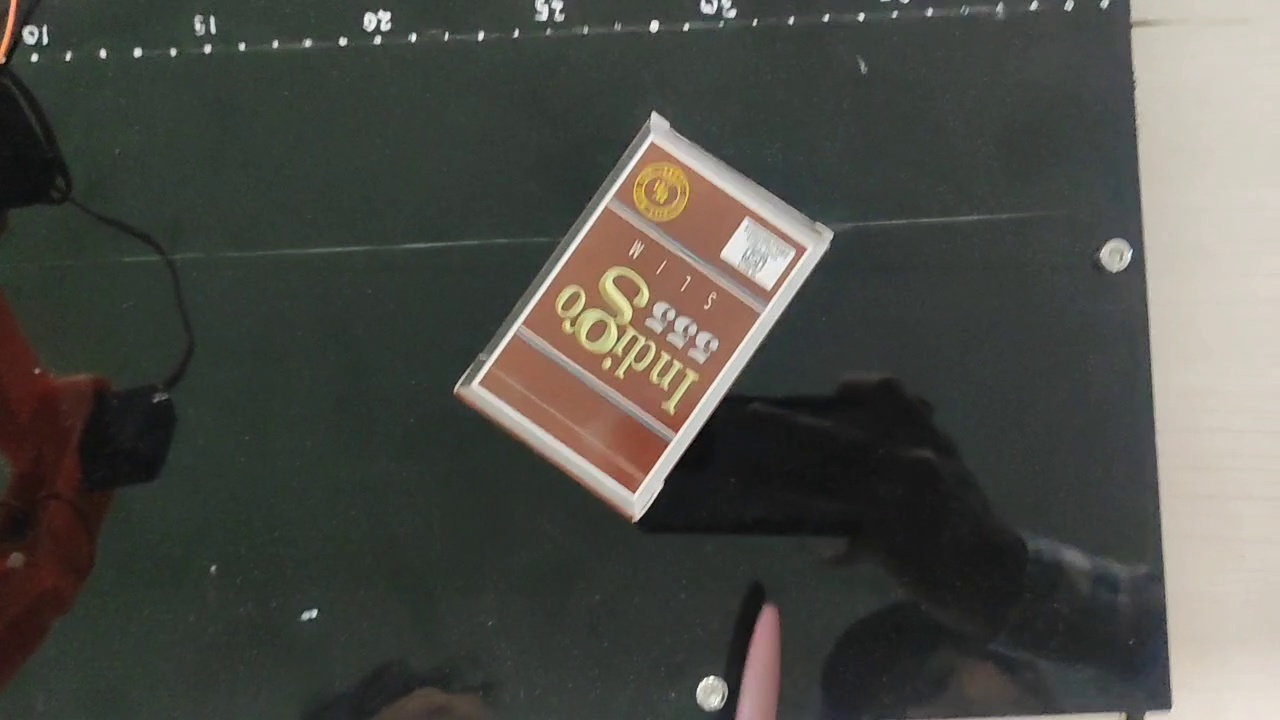BEX: (471, 139, 810, 497)
